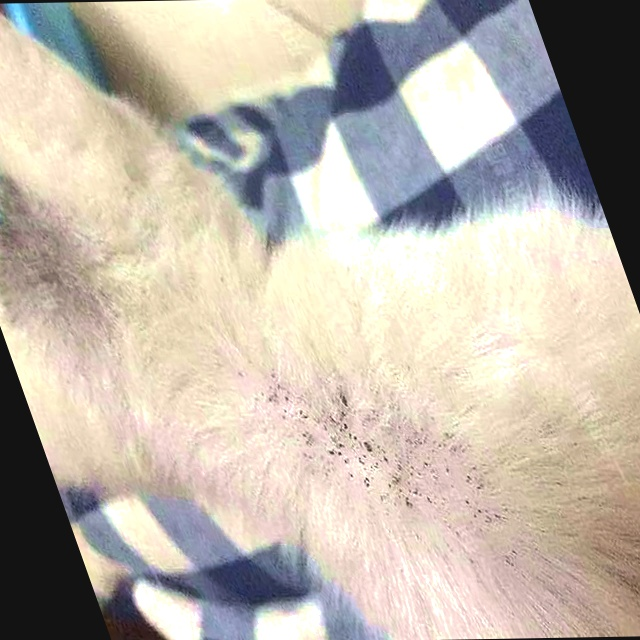acne: (242, 358, 522, 537)
